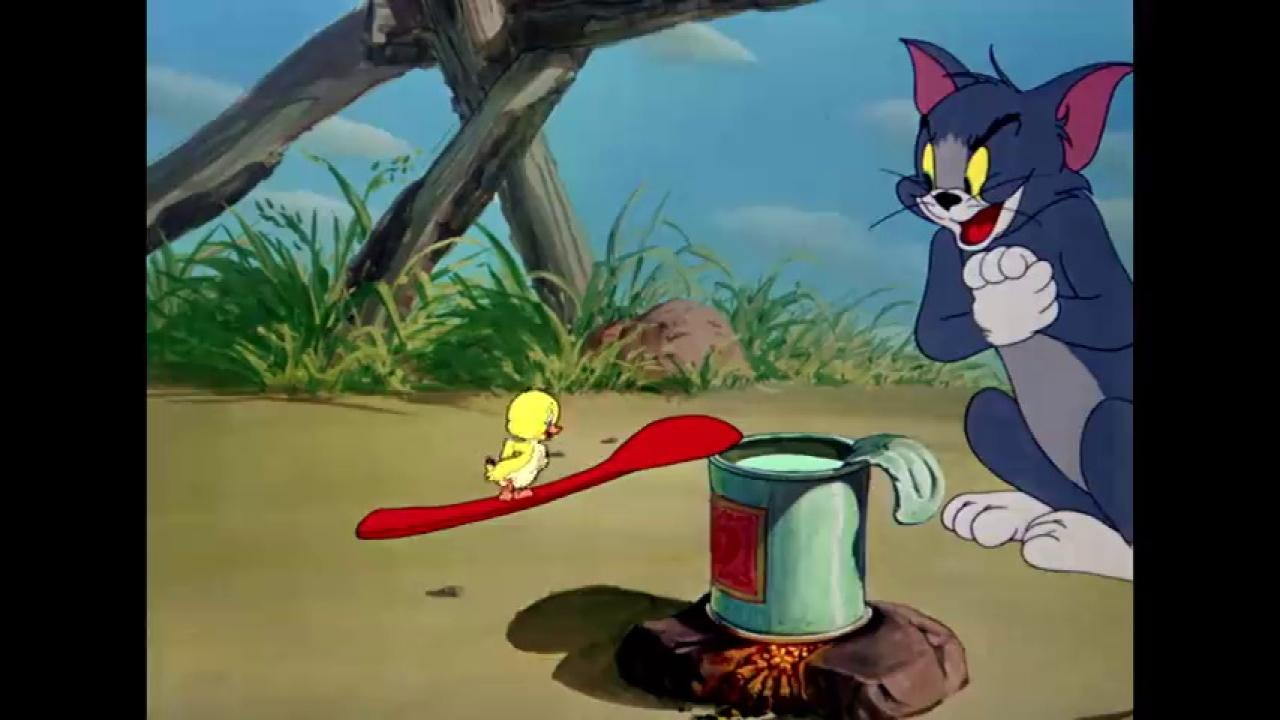Tom: (890, 32, 1134, 582)
